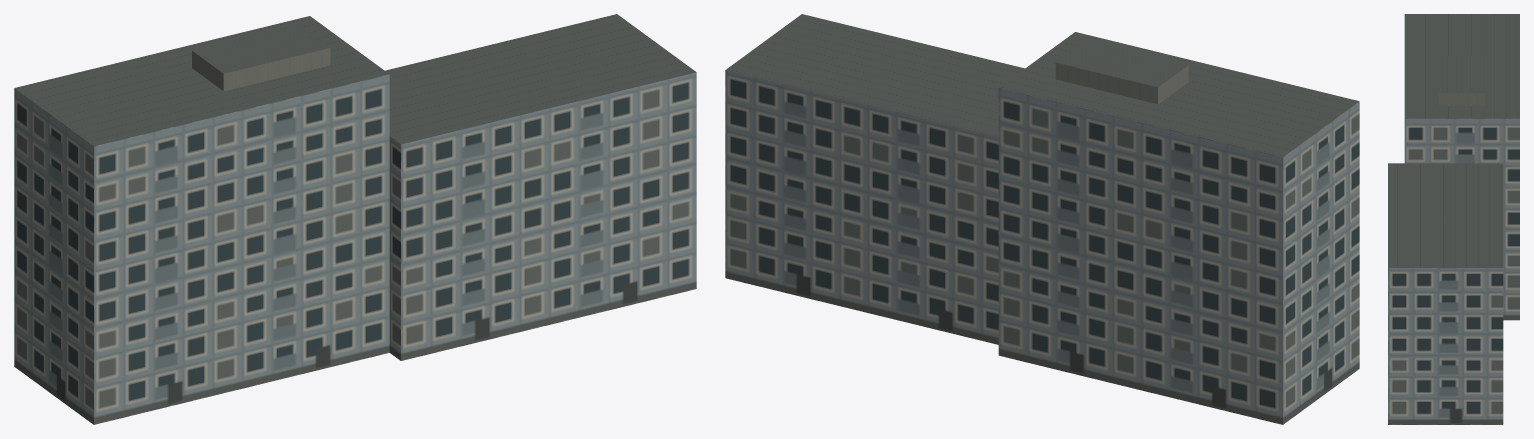
Rendered from kyiv_panel_09_03.obj.
3 renders of one model, left to right at view 1: azimuth 30°, elevation 25°; view 2: azimuth 150°, elevation 25°; view 3: azimuth 270°, elevation 25°, orthographic. The views are drawn at different scales.
Parts seen in each view (by area): view 1: kyiv_panel_09_03; view 2: kyiv_panel_09_03; view 3: kyiv_panel_09_03.
Boxes of the visible parts, bbox=[...] form: kyiv_panel_09_03: bbox=[14, 14, 696, 424]; kyiv_panel_09_03: bbox=[725, 14, 1359, 424]; kyiv_panel_09_03: bbox=[1388, 14, 1519, 424].
Size of the model in its own units: 60 by 28.7 by 16.
1 material, 1 textured.
